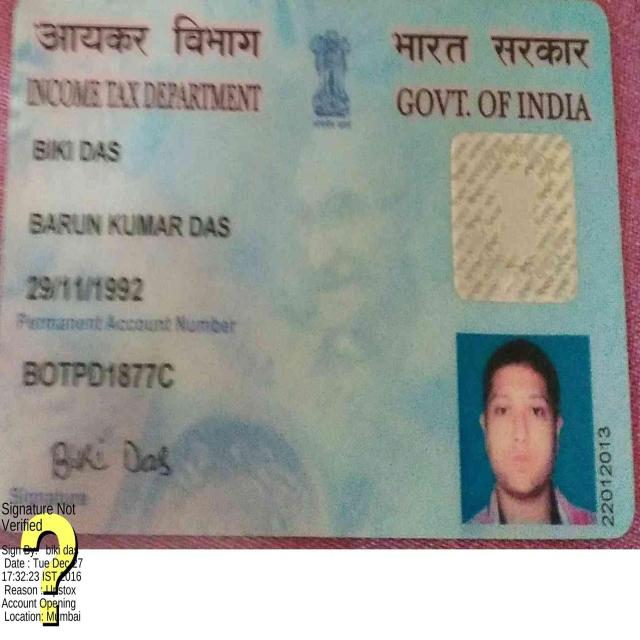pan_card: (1, 5, 635, 534)
